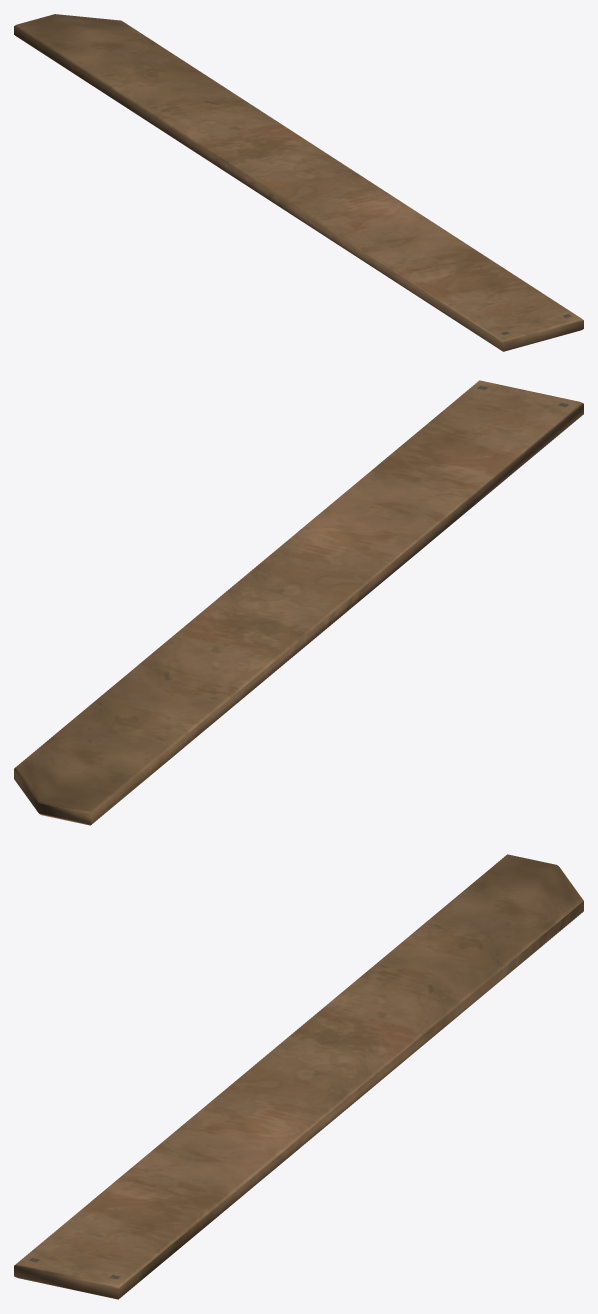
File: planche2.fbx
The picture shows the model from 3 angles, top to bottom: view 1: azimuth 30°, elevation 25°; view 2: azimuth 150°, elevation 25°; view 3: azimuth 330°, elevation 25°; orthographic projection. The views are drawn at different scales.
Parts seen in each view (by area): view 1: polySurface35; view 2: polySurface35; view 3: polySurface35.
Part boxes in pixels (<box>): polySurface35: <box>14,14,583,351</box>; polySurface35: <box>14,380,583,825</box>; polySurface35: <box>14,854,583,1299</box>.
Size of the model in its own units: 0.2187 by 0.0202 by 1.34.
